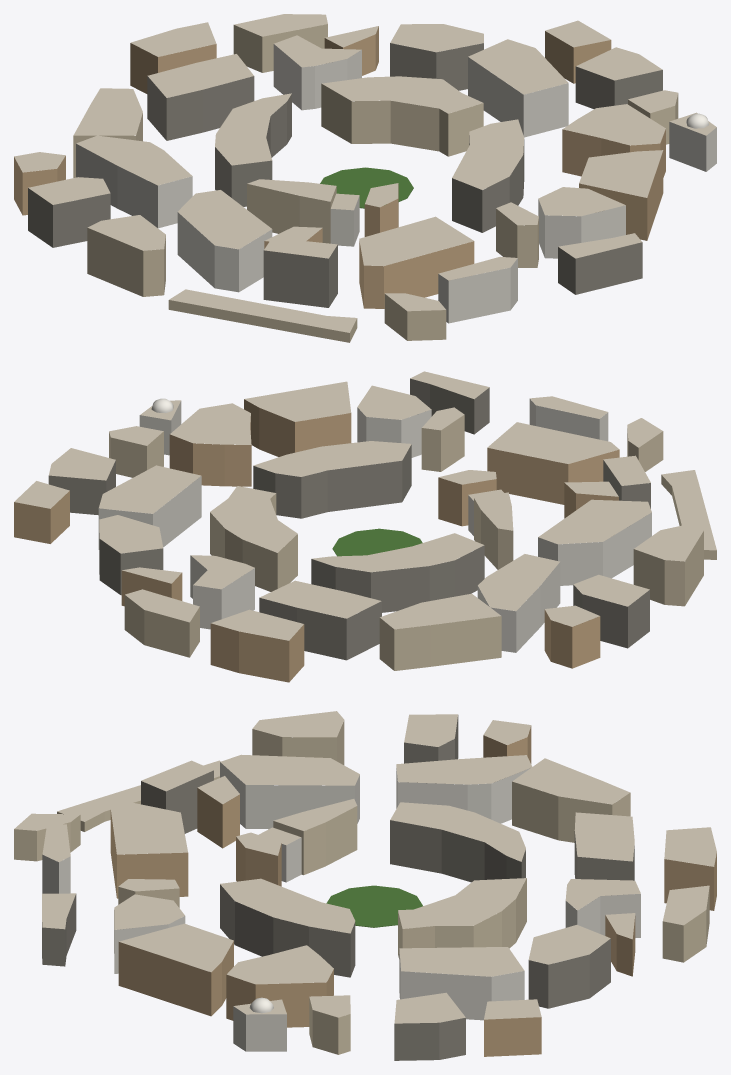
Rendered from bahria_civic_centre_far.glb.
3 views of the same model, one above another, from view 1: azimuth 30°, elevation 25°; view 2: azimuth 150°, elevation 25°; view 3: azimuth 270°, elevation 25° (orthographic). The views are drawn at different scales.
Visible parts, largest first — view 1: m_roof_concrete, m_wall_grey, m_wall_white, m_wall_cream, m_wall_tan, m_island_grass; view 2: m_roof_concrete, m_wall_grey, m_wall_tan, m_wall_cream, m_wall_white, m_island_grass; view 3: m_roof_concrete, m_wall_grey, m_wall_tan, m_wall_cream, m_wall_white, m_island_grass.
Boxes of the visible parts, x1,y1,x2,y2 form: m_roof_concrete: [14, 14, 716, 332]; m_wall_grey: [28, 43, 662, 307]; m_wall_white: [76, 44, 716, 323]; m_wall_cream: [73, 24, 678, 342]; m_wall_tan: [14, 26, 665, 308]; m_island_grass: [320, 167, 413, 208]; m_roof_concrete: [14, 371, 716, 640]; m_wall_grey: [48, 378, 650, 660]; m_wall_tan: [14, 399, 619, 682]; m_wall_cream: [109, 415, 716, 670]; m_wall_white: [98, 399, 651, 652]; m_island_grass: [332, 528, 422, 556]; m_roof_concrete: [14, 711, 716, 1023]; m_wall_grey: [42, 715, 634, 1060]; m_wall_tan: [110, 726, 716, 1056]; m_wall_cream: [14, 720, 709, 1054]; m_wall_white: [42, 762, 640, 1051]; m_island_grass: [326, 885, 422, 927].
Bounding box in the file's own units: 383 × 30.01 × 376.
